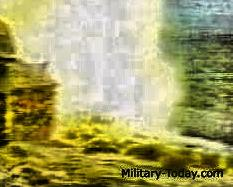tanks: (1, 21, 56, 145)
